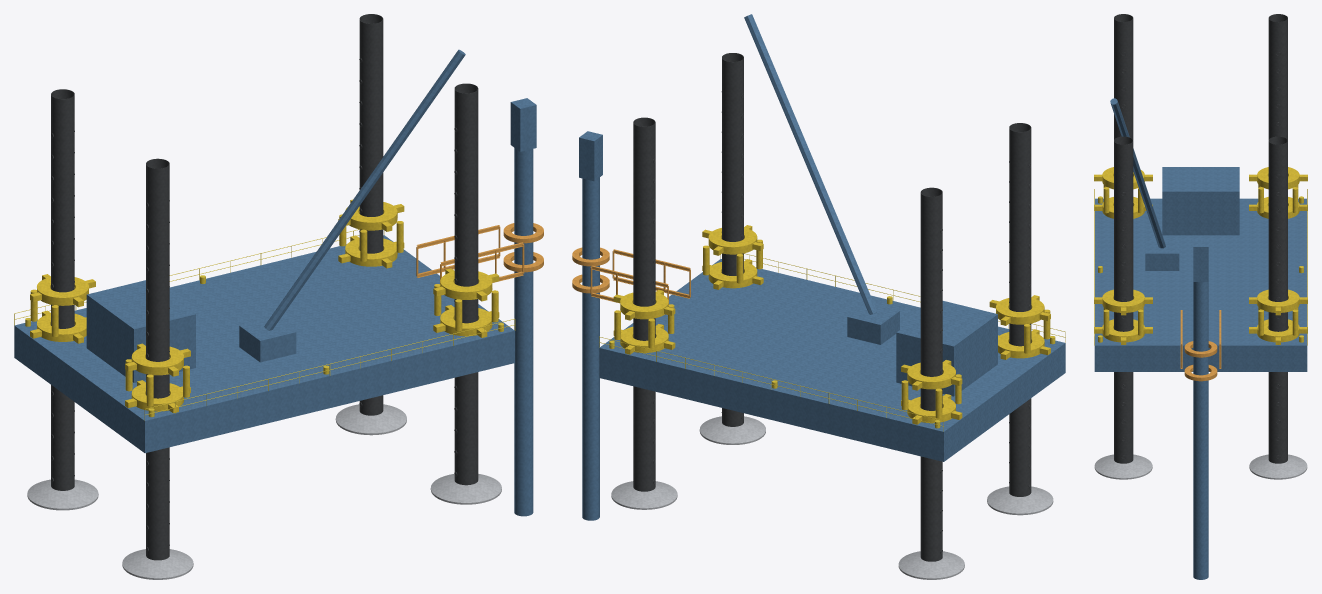
Rendered from jack-up-barges.glb.
3 views of the same model, side by side, from view 1: azimuth 30°, elevation 25°; view 2: azimuth 150°, elevation 25°; view 3: azimuth 270°, elevation 25° (orthographic). The views are drawn at different scales.
Visible parts, largest first — view 1: HullCrane&Pile(context), Legs, JackingUnits, SpudCans, PileManipulator, DeckFittings; view 2: HullCrane&Pile(context), Legs, JackingUnits, SpudCans, PileManipulator, DeckFittings; view 3: HullCrane&Pile(context), Legs, JackingUnits, SpudCans, PileManipulator, DeckFittings.
Boxes of the visible parts, x1,y1,x2,y2 form: HullCrane&Pile(context): [14, 49, 536, 516]; Legs: [51, 14, 478, 560]; JackingUnits: [30, 199, 499, 413]; SpudCans: [27, 404, 501, 579]; PileManipulator: [416, 223, 543, 295]; DeckFittings: [14, 229, 515, 420]; HullCrane&Pile(context): [579, 14, 1065, 520]; Legs: [633, 53, 1031, 561]; JackingUnits: [613, 225, 1050, 424]; SpudCans: [611, 416, 1053, 579]; PileManipulator: [572, 247, 690, 314]; DeckFittings: [599, 253, 1065, 431]; HullCrane&Pile(context): [1094, 98, 1307, 579]; Legs: [1114, 14, 1287, 463]; JackingUnits: [1094, 167, 1307, 344]; SpudCans: [1094, 454, 1307, 479]; PileManipulator: [1180, 310, 1221, 381]; DeckFittings: [1094, 189, 1307, 345].
Size of the model in its own units: 44.95 by 49.23 by 22.1.
Materials: 7 (7 with a texture image).
